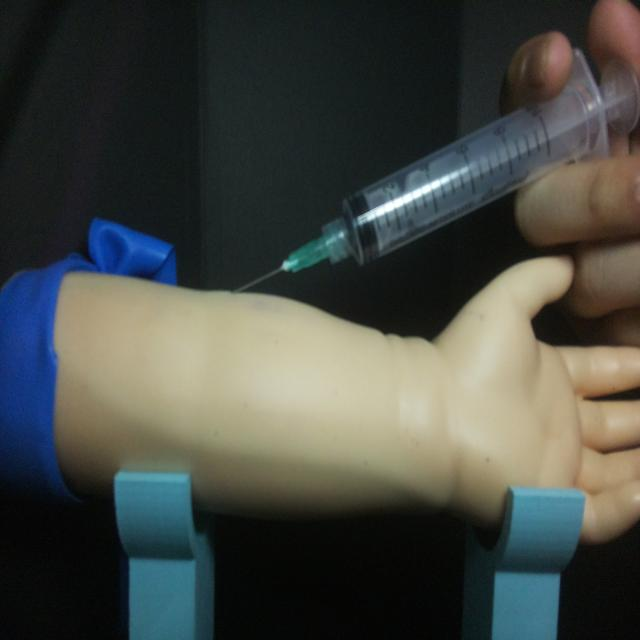21deg: (226, 44, 636, 297)
